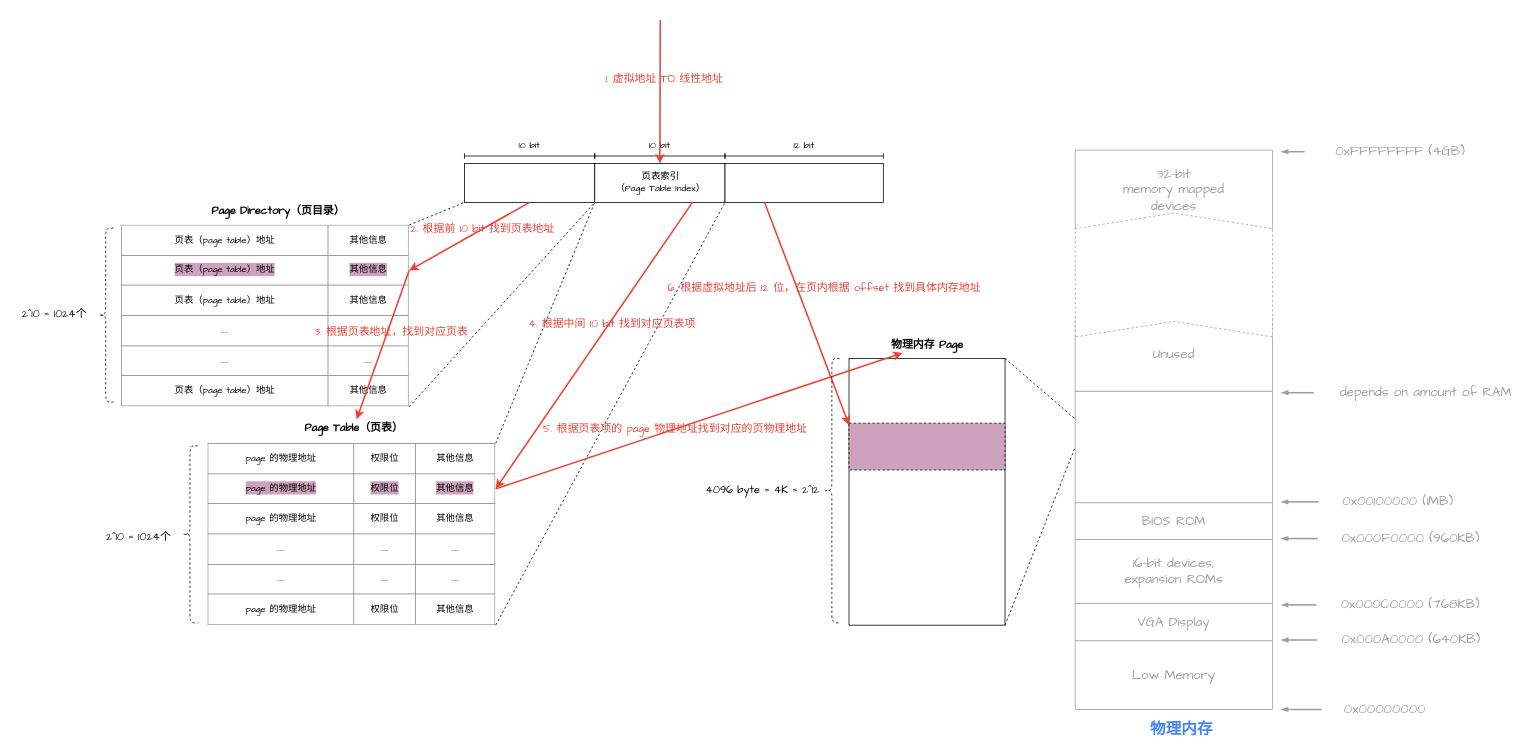
Some shapes in this 1525 by 753 pixel diagram are drawn without their labels. Each missing label, with the centre of its shape:
"Extended Memory" belongs at point (1173, 446).
"虚拟地址对应的内容" belongs at point (926, 446).
"页内偏移 （Offset within Page）" belongs at point (803, 182).
"页目录索引 （Page Directory Index）" belongs at point (529, 182).
